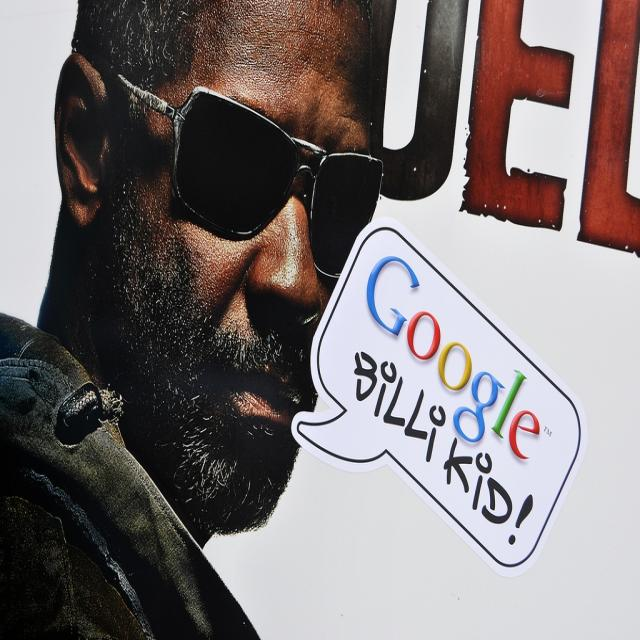google: (362, 253, 547, 468)
